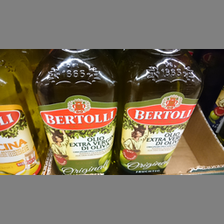oil: (31, 48, 118, 174), (116, 49, 202, 174)
